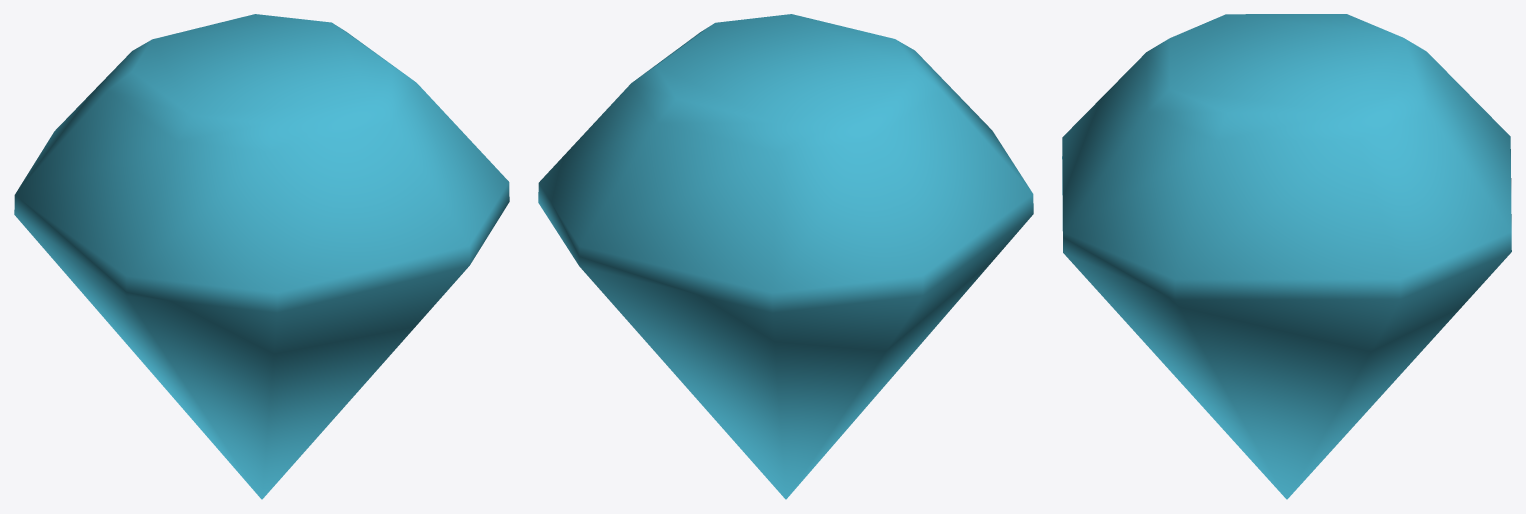
Rendered from decorSmall-candy-78.glb.
The picture shows the model from 3 angles, left to right: view 1: azimuth 30°, elevation 25°; view 2: azimuth 150°, elevation 25°; view 3: azimuth 270°, elevation 25°; orthographic projection.
Parts seen in each view (by area): view 1: piece; view 2: piece; view 3: piece.
Part boxes in pixels (bbox=[...]): piece: bbox=[14, 14, 509, 499]; piece: bbox=[538, 14, 1033, 499]; piece: bbox=[1062, 14, 1511, 499].
Size of the model in its own units: 1.01 by 1.08 by 1.01.
